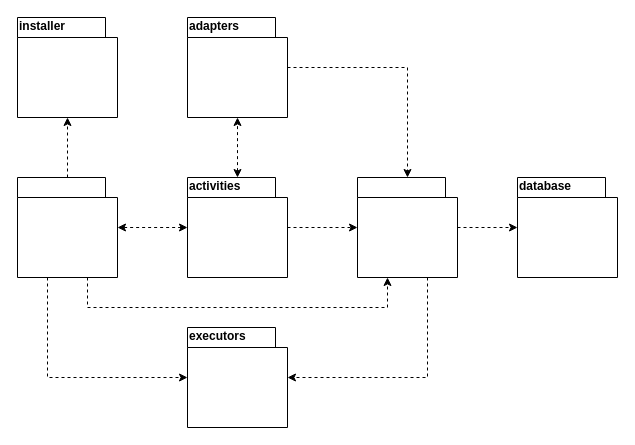
This 635x445 diagram has some shape labels left out. The shapes that lost their labels are listed below. From the top down, each one's box as (x1, y1, x2, y2) in pixels, then its label:
(16, 176, 118, 278): fragments
(356, 176, 458, 278): view_models
